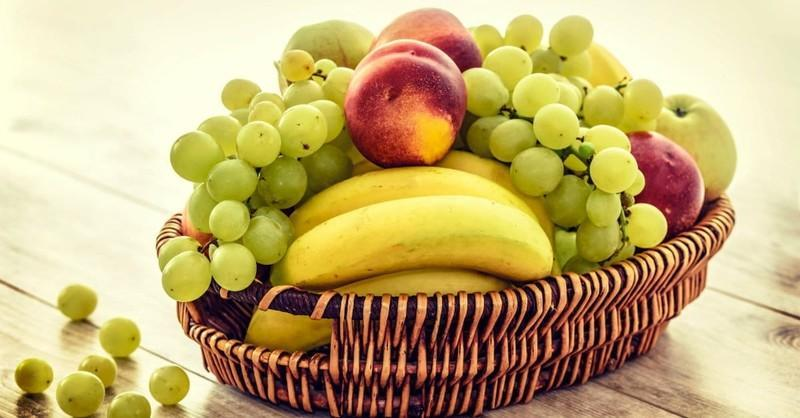apple: (651, 92, 737, 202), (366, 7, 484, 73)
